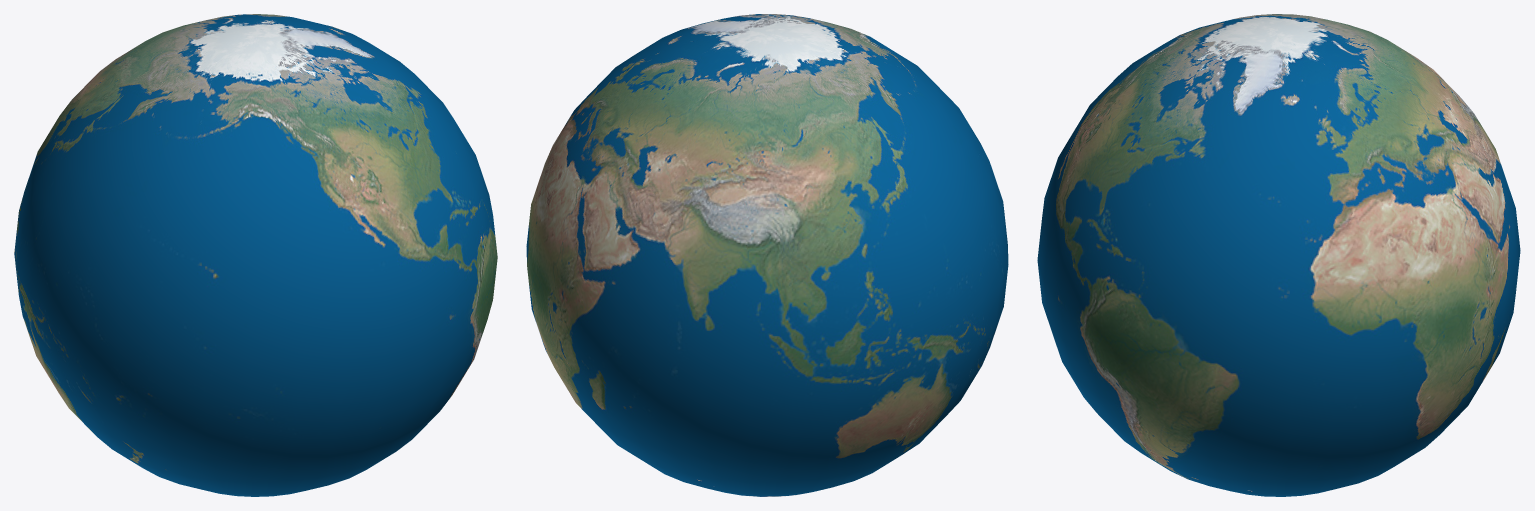
Rendered from diqiu_test.FBX.
The picture shows the model from 3 angles, left to right: view 1: azimuth 30°, elevation 25°; view 2: azimuth 150°, elevation 25°; view 3: azimuth 270°, elevation 25°; orthographic projection.
Parts seen in each view (by area): view 1: Sphere001; view 2: Sphere001; view 3: Sphere001.
Boxes of the visible parts, left/top/right/bottom form: Sphere001: left=14, top=14, right=497, bottom=496; Sphere001: left=526, top=14, right=1008, bottom=496; Sphere001: left=1037, top=14, right=1520, bottom=496.
Bounding box in the file's own units: 65.61 × 65.68 × 65.61.
